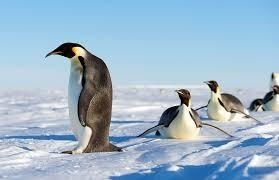emporer: (42, 40, 128, 156)
